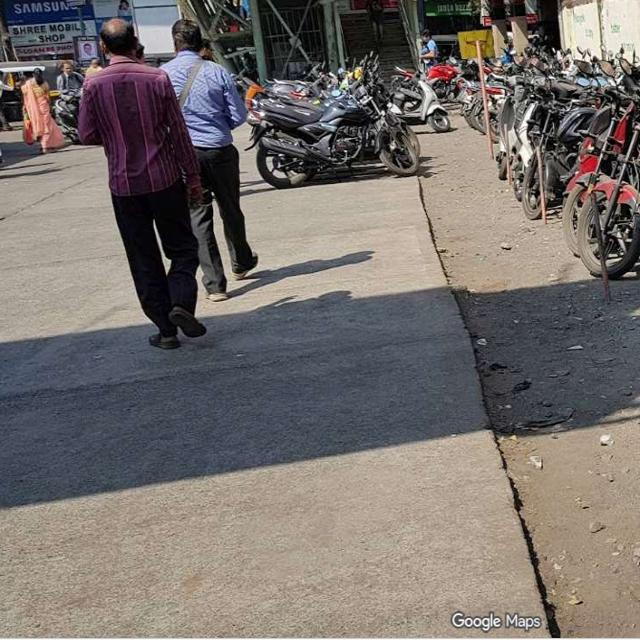illegalparking: (246, 63, 428, 197)
